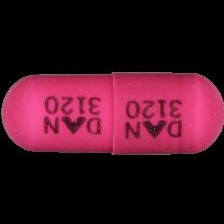63187-556: (0, 0, 224, 224)
